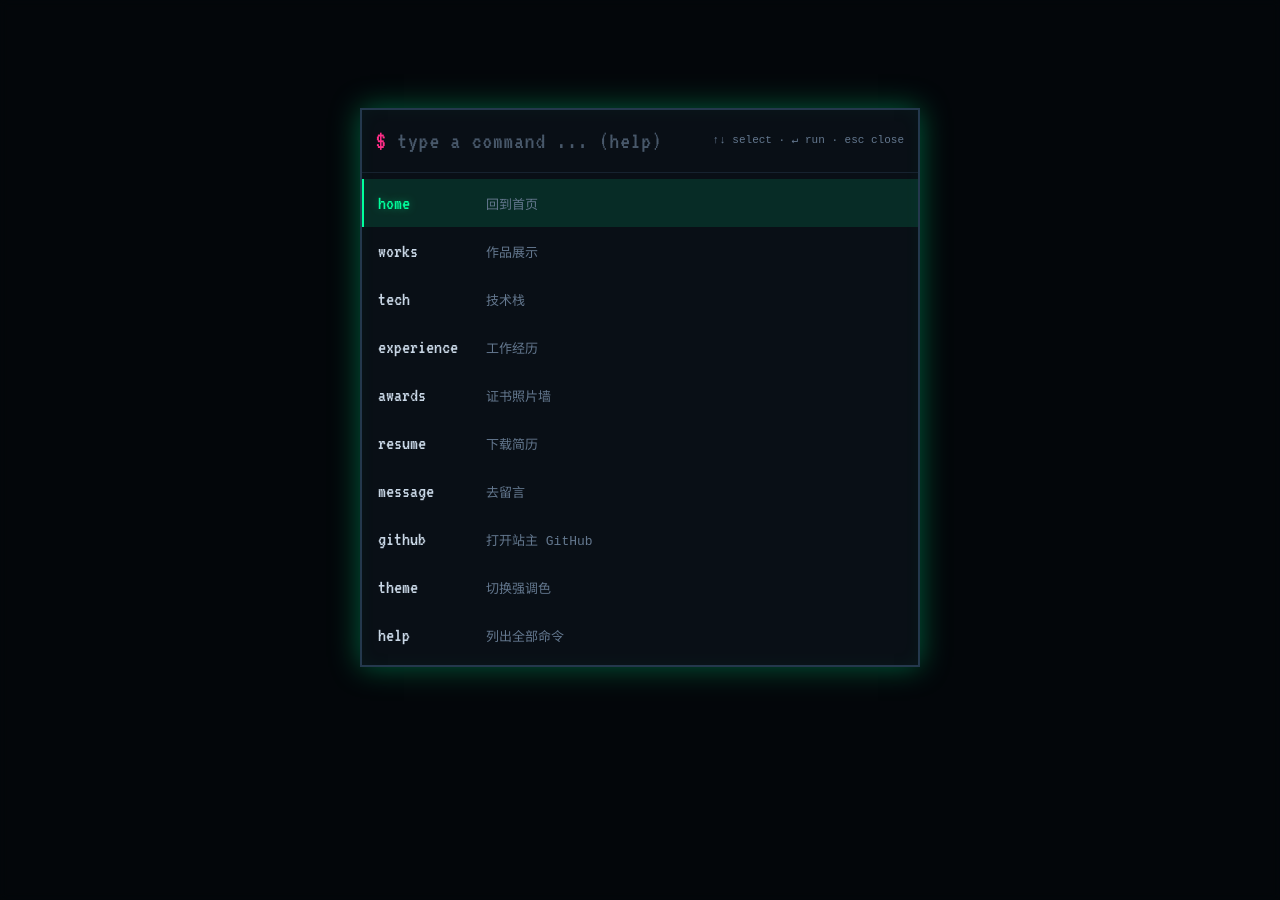
Test: 命令面板 CommandPalette（Spec 10） › 历史记录：执行过的命令在下次打开时出现在 history 分区
Type "tech" into the field with placeholder "type a command ... (help)" at (549, 141), box 396,128 -> 702,154
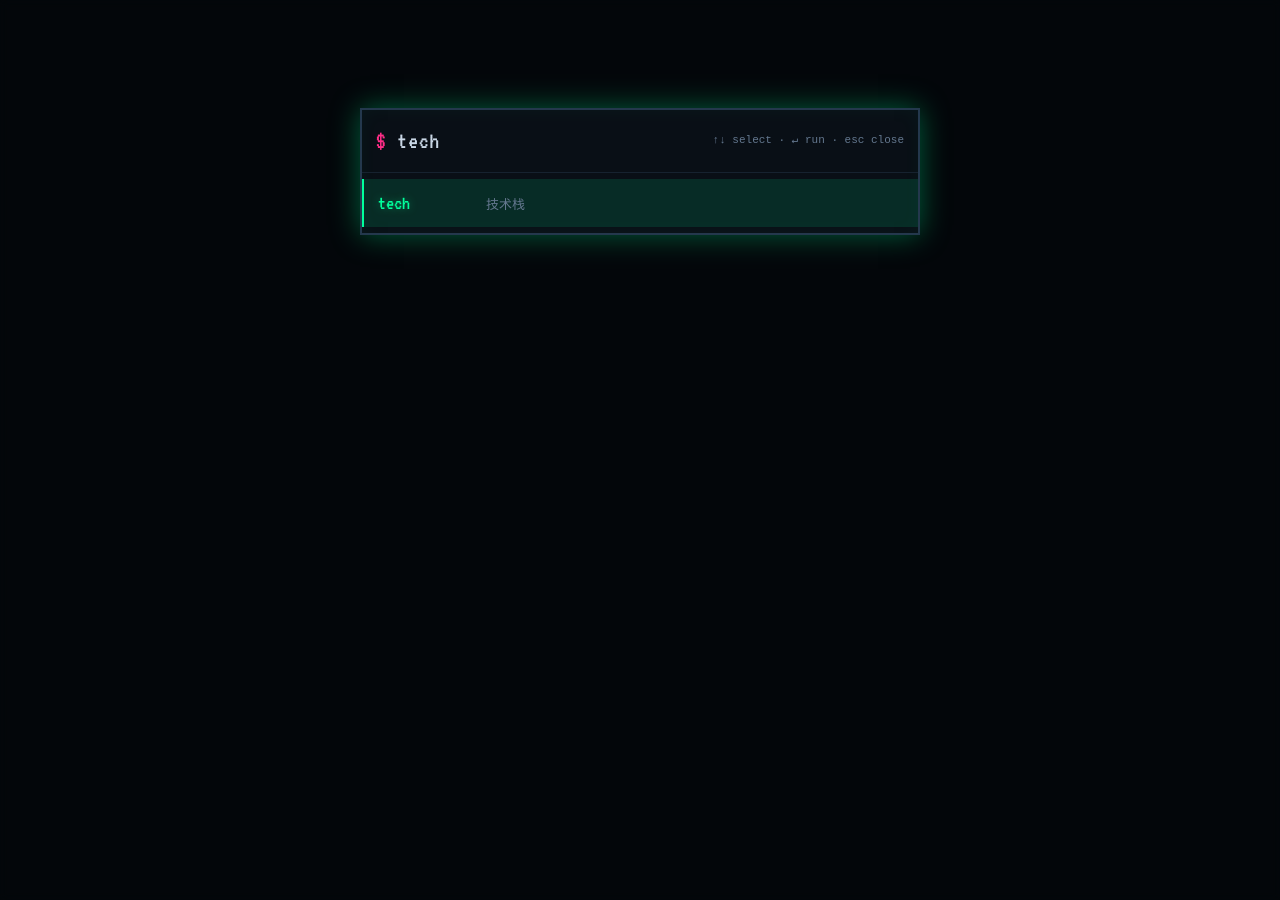
Press Enter in the field named "输入命令", box 396,128 -> 702,154
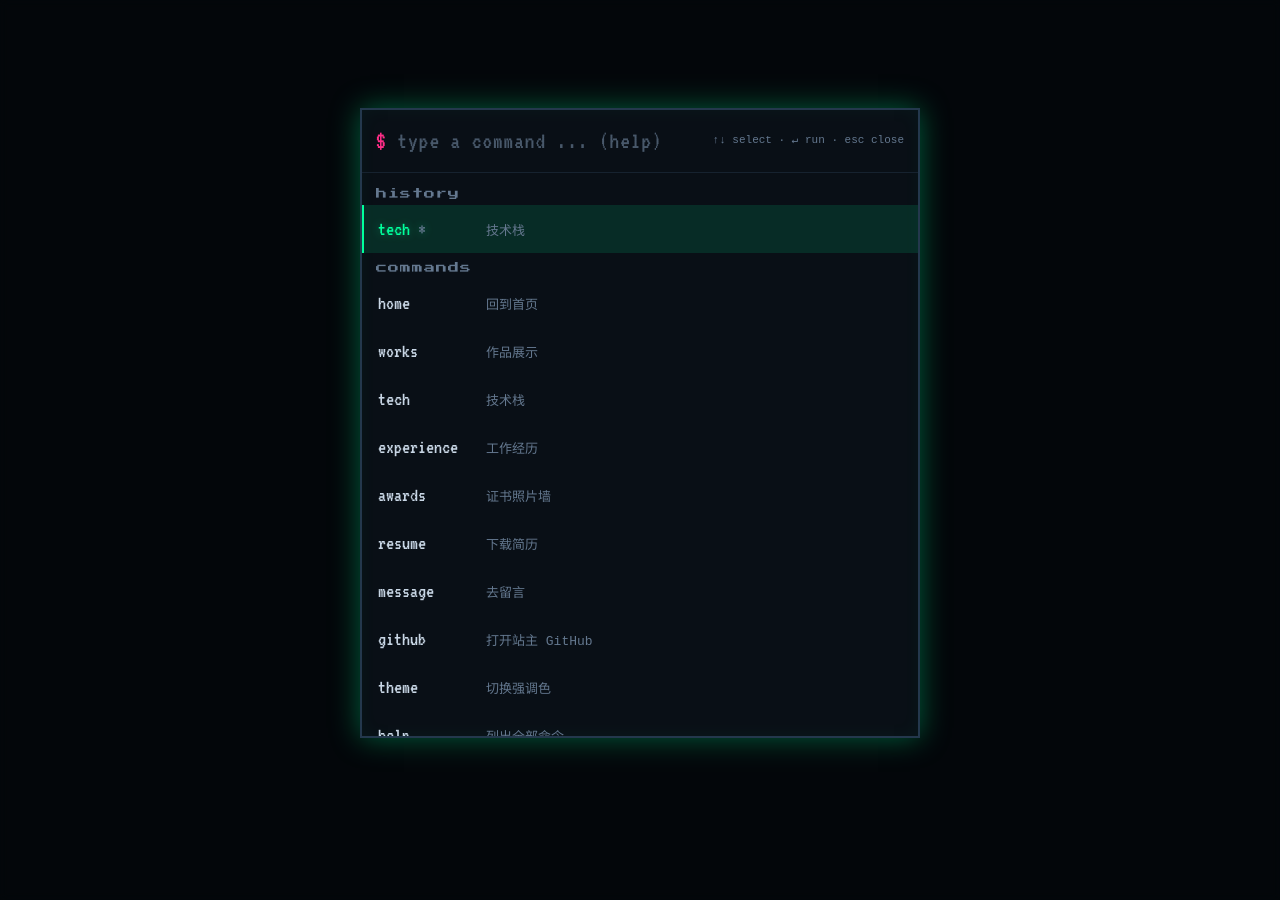
Expected: the 1st text with class "item-name" reads "tech", 378,219 -> 410,239
Expected: the list item "history" is shown, 376,188 -> 460,199
